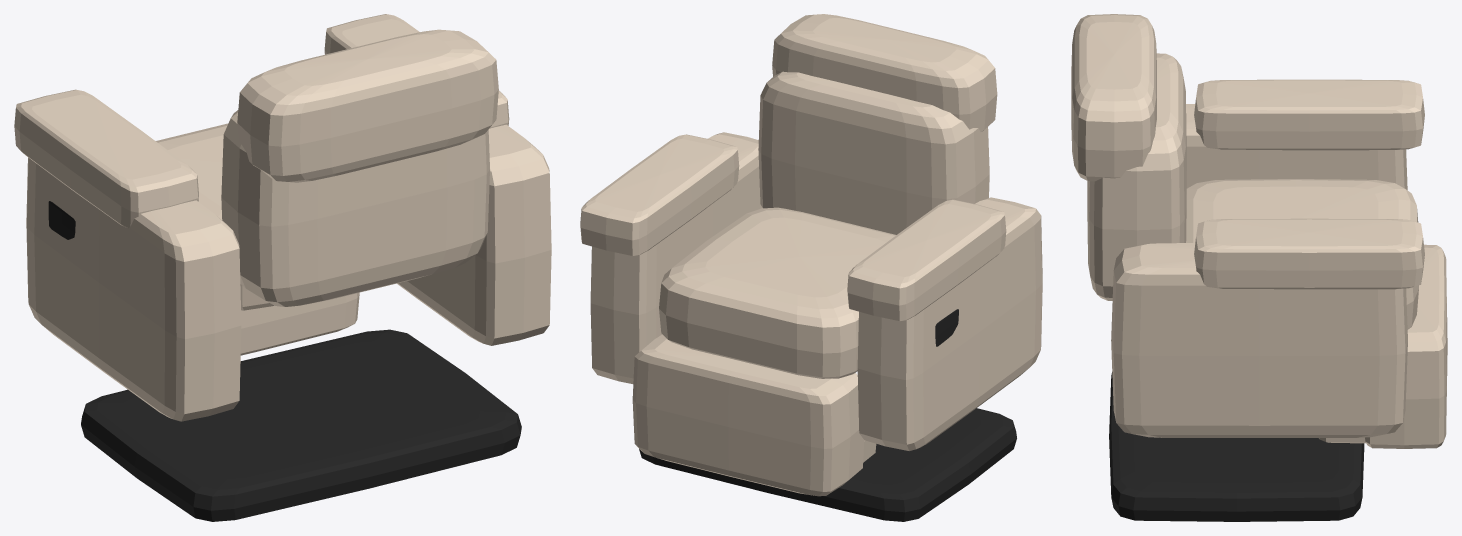
Rendered from drake-recliner.glb.
The picture shows the model from 3 angles, left to right: view 1: azimuth 30°, elevation 25°; view 2: azimuth 150°, elevation 25°; view 3: azimuth 270°, elevation 25°; orthographic projection. The views are drawn at different scales.
Parts seen in each view (by area): view 1: recliner_back, lower_base.002, arm_L.002, arm_R.002, armcap_L.002, footrest, seat_cushion, armcap_R.002, control_panel; view 2: recliner_back, seat_cushion, front_apron, arm_L.002, arm_R.002, lower_base.002, armcap_R.002, armcap_L.002, control_panel; view 3: arm_R.002, recliner_back, lower_base.002, armcap_L.002, armcap_R.002, seat_cushion, front_apron, arm_L.002.
Boxes of the visible parts, left/top/right/bottom form: recliner_back: left=221, top=29, right=498, bottom=306; lower_base.002: left=81, top=329, right=521, bottom=521; arm_L.002: left=26, top=157, right=241, bottom=421; arm_R.002: left=397, top=124, right=551, bottom=345; armcap_L.002: left=14, top=89, right=198, bottom=228; footrest: left=240, top=292, right=359, bottom=355; seat_cushion: left=156, top=123, right=273, bottom=310; armcap_R.002: left=324, top=14, right=509, bottom=128; control_panel: left=48, top=201, right=75, bottom=239; recliner_back: left=758, top=14, right=997, bottom=234; seat_cushion: left=659, top=207, right=896, bottom=378; front_apron: left=632, top=334, right=864, bottom=496; arm_L.002: left=857, top=197, right=1042, bottom=450; arm_R.002: left=590, top=132, right=761, bottom=383; lower_base.002: left=639, top=408, right=1016, bottom=521; armcap_R.002: left=580, top=134, right=739, bottom=255; armcap_L.002: left=847, top=199, right=1006, bottom=321; control_panel: left=935, top=309, right=958, bottom=346; arm_R.002: left=1111, top=243, right=1407, bottom=437; recliner_back: left=1071, top=14, right=1186, bottom=300; lower_base.002: left=1109, top=372, right=1364, bottom=521; armcap_L.002: left=1194, top=79, right=1424, bottom=150; armcap_R.002: left=1194, top=218, right=1424, bottom=289; seat_cushion: left=1186, top=179, right=1418, bottom=329; front_apron: left=1365, top=244, right=1447, bottom=448; arm_L.002: left=1186, top=104, right=1407, bottom=190.
Size of the model in its own units: 0.983 by 1.06 by 0.908.
